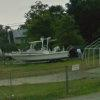Boat: (7, 37, 76, 64)
